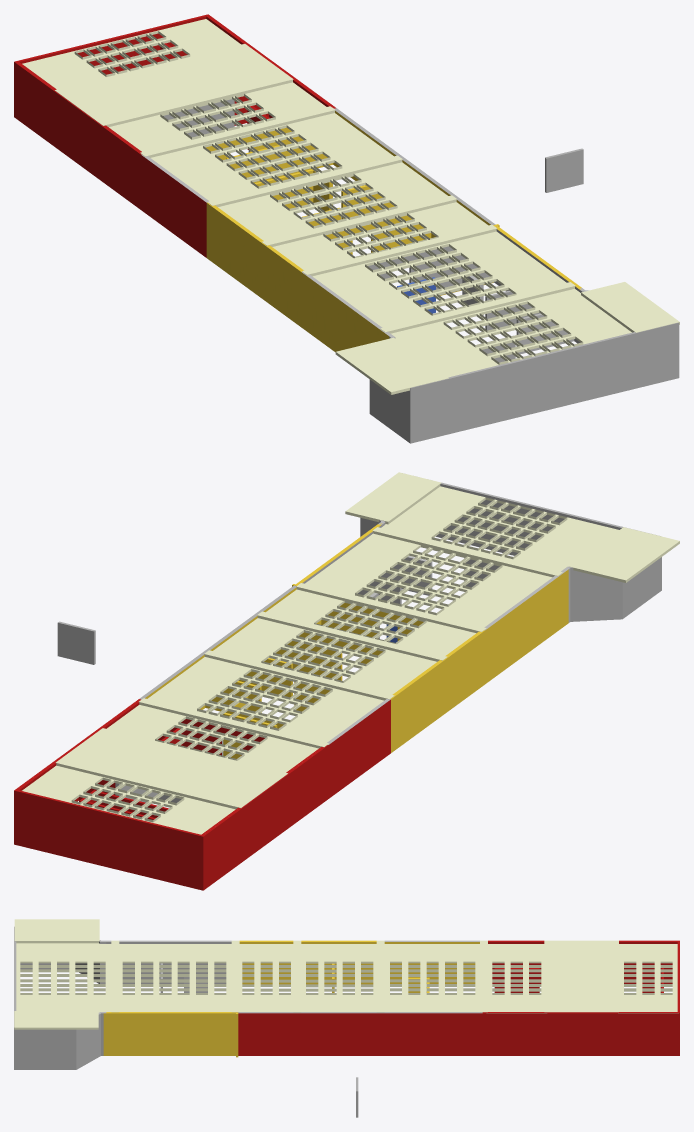
Rendered from museeV17.obj.
The picture shows the model from 3 angles, top to bottom: view 1: azimuth 30°, elevation 25°; view 2: azimuth 150°, elevation 25°; view 3: azimuth 270°, elevation 25°; orthographic projection. The views are drawn at different scales.
Parts seen in each view (by area): view 1: Plane.009_Plane.013, Wall.042_Wall.045, Wall.028_Wall.001, Wall.030_Wall.014, Wall.036_Wall.033, Wall.004_Wall.009, Wall.024_Wall.037, Wall.014_Wall.027, Wall.044_Wall.047, Wall.013_Wall.026, Wall.027_Wall, Wall.003_Wall.006 (+2 smaller); view 2: Plane.009_Plane.013, Wall.037_Wall.041, Wall.004_Wall.009, Wall.036_Wall.033, Wall.044_Wall.047, Wall.028_Wall.001, Wall.030_Wall.014, Wall.024_Wall.037, Wall.042_Wall.045, Wall.014_Wall.027, Wall.013_Wall.026, Wall.027_Wall (+2 smaller); view 3: Plane.009_Plane.013, Wall.027_Wall, Wall.003_Wall.006, Wall.033_Wall.021, Wall_Wall.030, Wall.018_Wall.031, Wall.041_Wall.017, Wall.004_Wall.009, Wall.043_Wall.046, Wall.028_Wall.001, Wall.024_Wall.037, Wall.014_Wall.027 (+3 smaller).
Part boxes in pixels (box(x1,y1,x2,y2)): Plane.009_Plane.013: box(22, 19, 679, 394); Wall.042_Wall.045: box(413, 323, 677, 442); Wall.028_Wall.001: box(141, 144, 220, 257); Wall.030_Wall.014: box(76, 107, 142, 210); Wall.036_Wall.033: box(14, 61, 78, 163); Wall.004_Wall.009: box(302, 263, 391, 352); Wall.024_Wall.037: box(206, 202, 263, 298); Wall.014_Wall.027: box(263, 244, 303, 328); Wall.044_Wall.047: box(369, 337, 413, 443); Wall.013_Wall.026: box(545, 148, 583, 192); Wall.027_Wall: box(258, 108, 432, 185); Wall.003_Wall.006: box(419, 224, 581, 343); Plane.009_Plane.013: box(22, 472, 679, 834); Wall.037_Wall.041: box(17, 790, 200, 889); Wall.004_Wall.009: box(407, 569, 568, 684); Wall.036_Wall.033: box(199, 791, 265, 890); Wall.044_Wall.047: box(568, 535, 661, 621); Wall.028_Wall.001: box(250, 699, 390, 798); Wall.030_Wall.014: box(264, 745, 328, 844); Wall.024_Wall.037: box(390, 659, 445, 752); Wall.042_Wall.045: box(436, 482, 656, 555); Wall.014_Wall.027: box(445, 630, 484, 712); Wall.013_Wall.026: box(57, 621, 95, 664); Wall.027_Wall: box(139, 630, 236, 752); Plane.009_Plane.013: box(14, 919, 678, 1029); Wall.027_Wall: box(334, 1012, 484, 1055); Wall.003_Wall.006: box(103, 1012, 238, 1057); Wall.033_Wall.021: box(482, 1012, 583, 1055); Wall_Wall.030: box(581, 1012, 679, 1055); Wall.018_Wall.031: box(238, 1012, 334, 1055); Wall.041_Wall.017: box(38, 1012, 101, 1069); Wall.004_Wall.009: box(105, 940, 231, 983); Wall.043_Wall.046: box(14, 1027, 38, 1069); Wall.028_Wall.001: box(384, 940, 479, 983); Wall.024_Wall.037: box(301, 940, 376, 984); Wall.014_Wall.027: box(239, 940, 293, 984).
Bounding box in the file's own units: 104 × 13.68 × 189.
